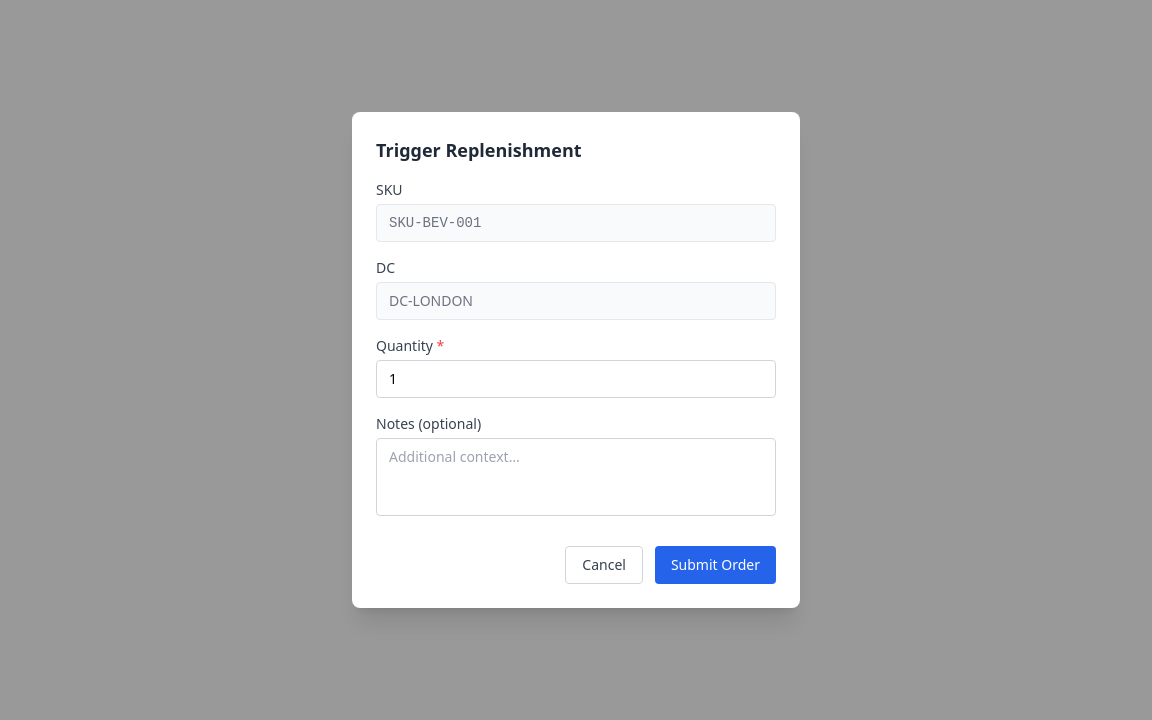
ReplenishmentTriggerModal › shows conflict error on 409 response
Click the button "Submit Order".
click(715, 565)  # box [655,546,776,584]
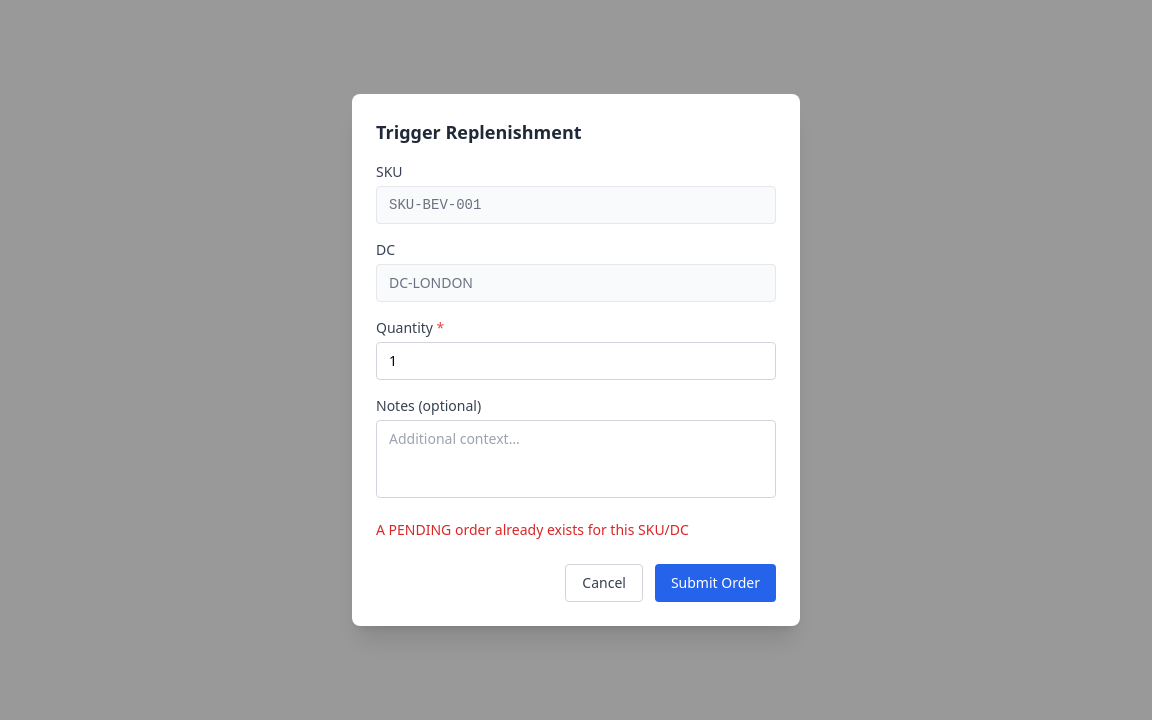
expect the text "A PENDING order already exists for this SKU/DC" is shown: met, box [376,520,689,539]
